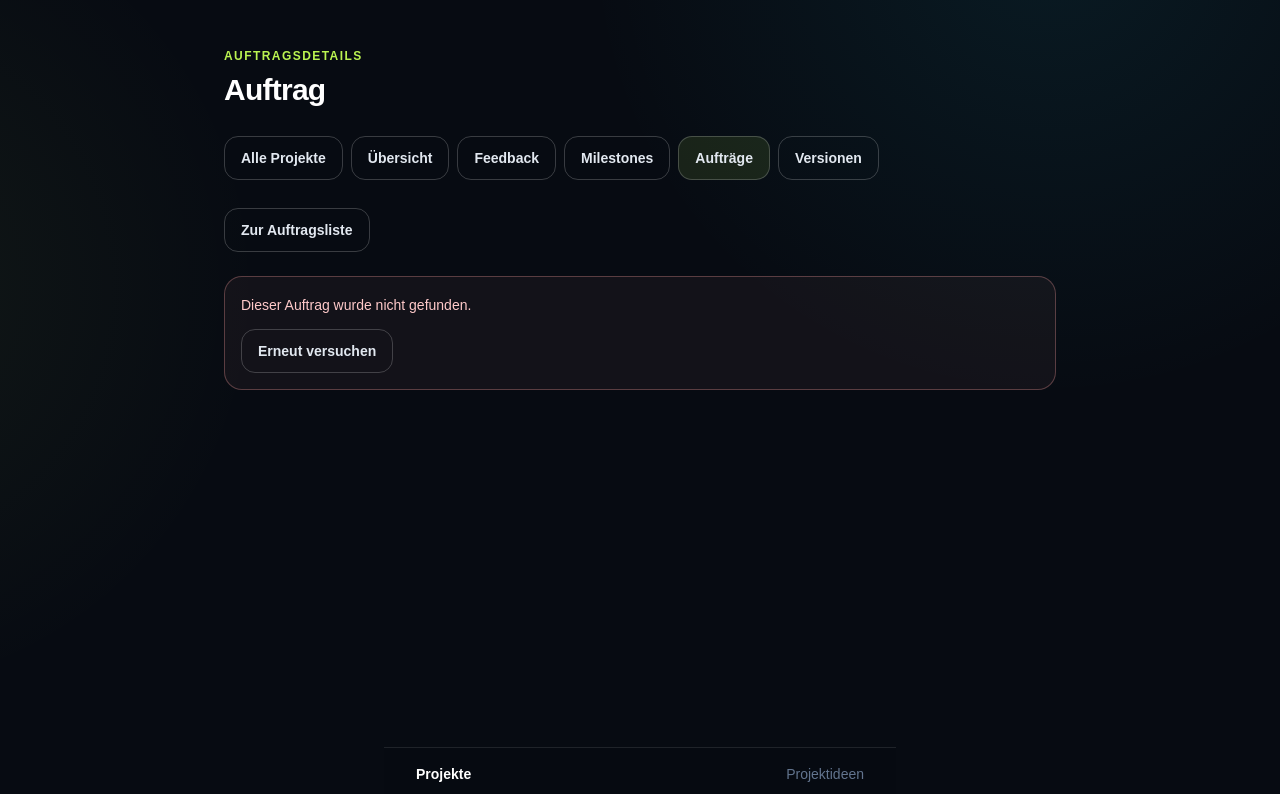
Test case: LUUFI-9 Aufträge und Spezifikationen lesen › stellt einen fehlenden Auftrag nach Wiederholung wieder her
The width and height of the screenshot is (1280, 794).
Check: the message shows "nicht gefunden", box [241,297,471,313]
Click the button "Erneut versuchen": x=317, y=351 [241,329,393,373]
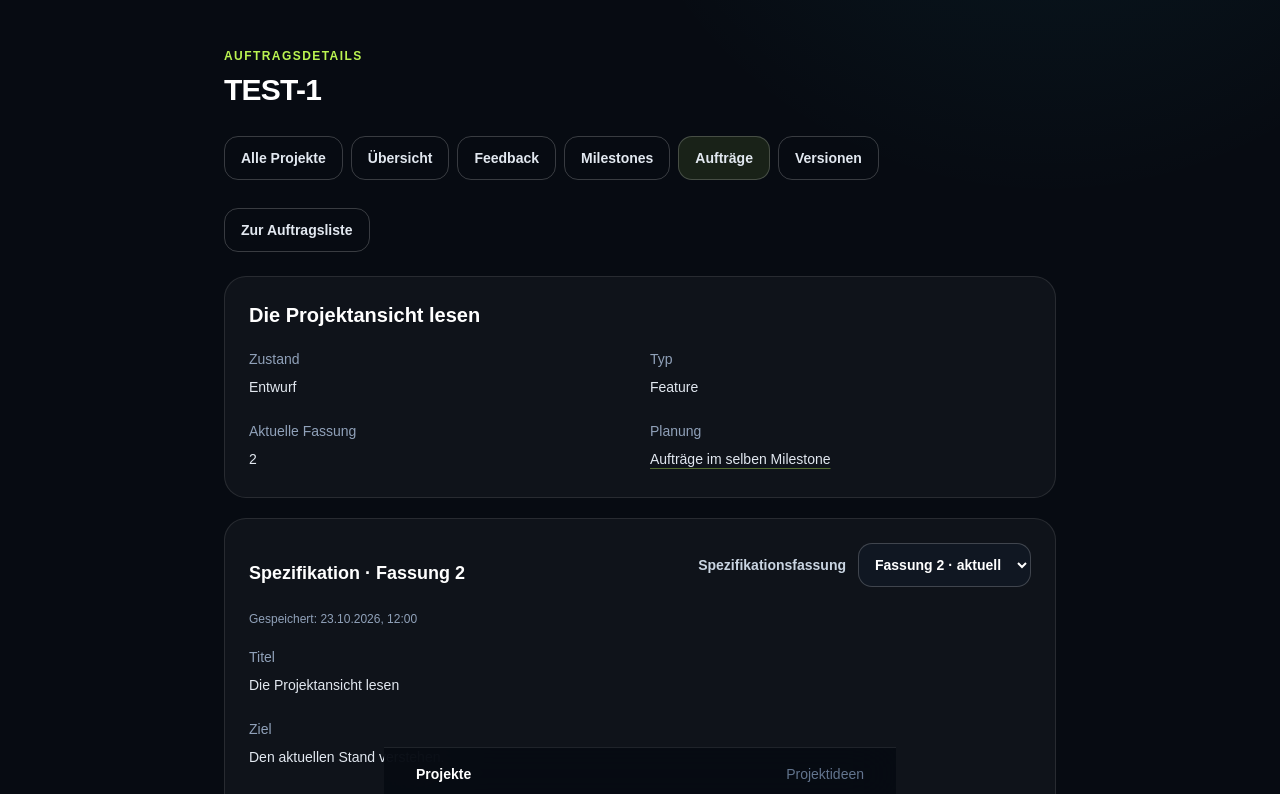
Check: the heading "TEST-1" is shown, box [224,73,321,106]
